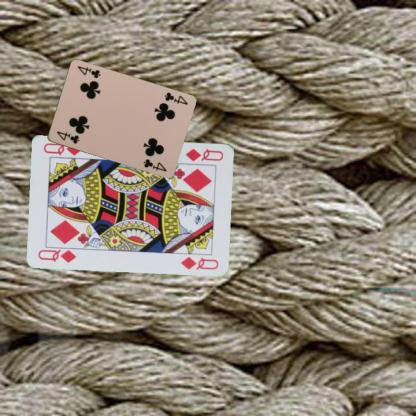4c: (161, 90, 189, 106), (54, 128, 80, 145)
Qd: (36, 244, 81, 264), (183, 146, 225, 162)
